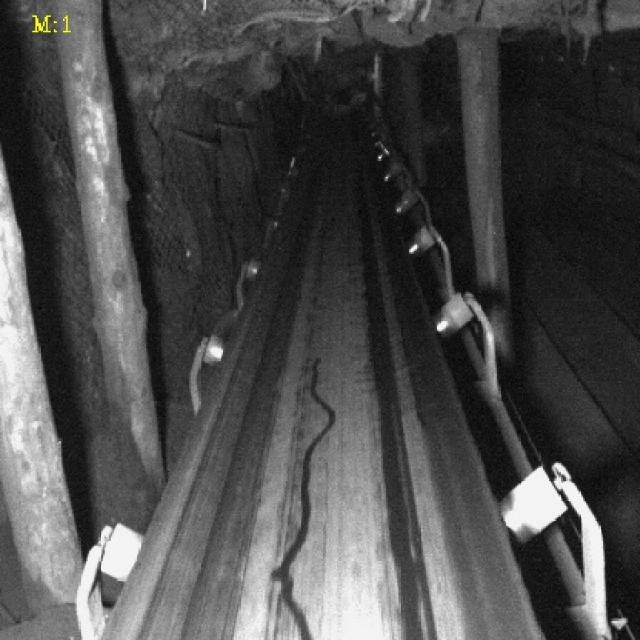bolt: (268, 356, 337, 638)
